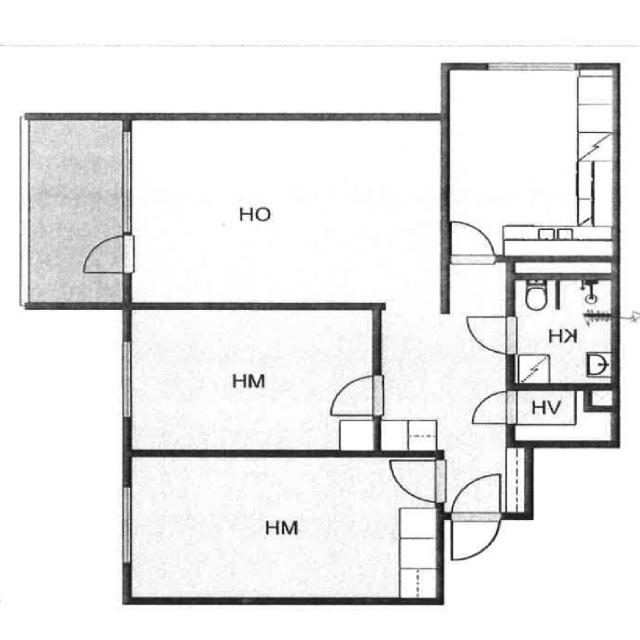door: (124, 454, 440, 602), (446, 470, 504, 561), (322, 371, 386, 419), (76, 230, 140, 278), (460, 308, 520, 357), (444, 218, 503, 266), (388, 456, 442, 505), (466, 389, 517, 428)
window: (110, 128, 141, 238), (112, 334, 140, 424), (114, 483, 140, 567), (480, 57, 582, 77)
zone: (122, 117, 448, 307), (126, 306, 378, 452), (445, 65, 617, 254), (509, 268, 617, 386), (508, 387, 619, 445), (389, 457, 441, 504)
